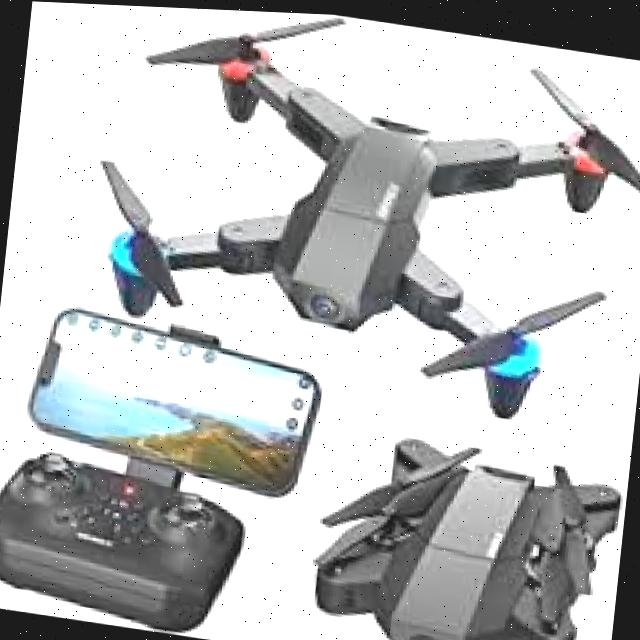drone: (68, 2, 640, 435)
